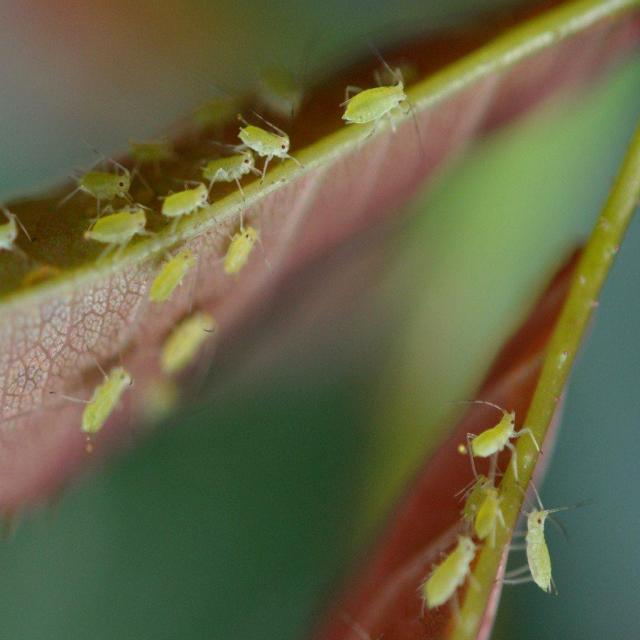aphid: (61, 114, 302, 313), (425, 408, 566, 618), (341, 56, 426, 142), (75, 352, 142, 461), (161, 299, 233, 391)
